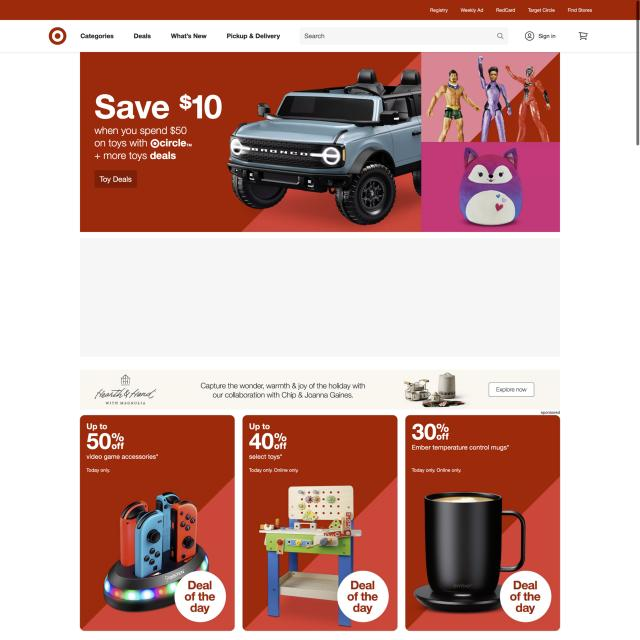CheckBox: (523, 29, 558, 43)
CheckedTextView: (300, 27, 508, 45)
ImageView: (80, 238, 559, 358), (79, 370, 559, 410)
bag: (0, 0, 640, 52)
card: (80, 52, 560, 232)
carousel: (578, 30, 588, 42), (496, 31, 504, 41)
copy: (80, 414, 235, 632), (242, 415, 398, 631), (405, 415, 560, 631)
date picker: (46, 25, 69, 47)
decoration: (78, 27, 285, 44), (424, 5, 596, 15)
footer: (303, 32, 327, 40)
